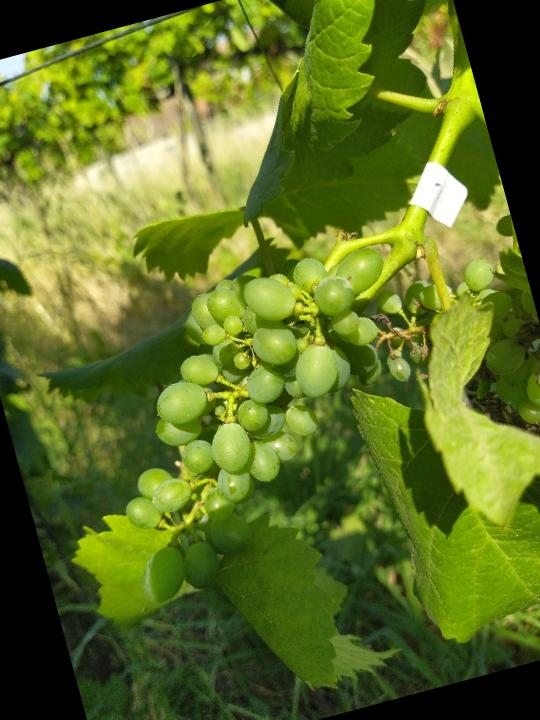grape: (52, 222, 476, 621)
